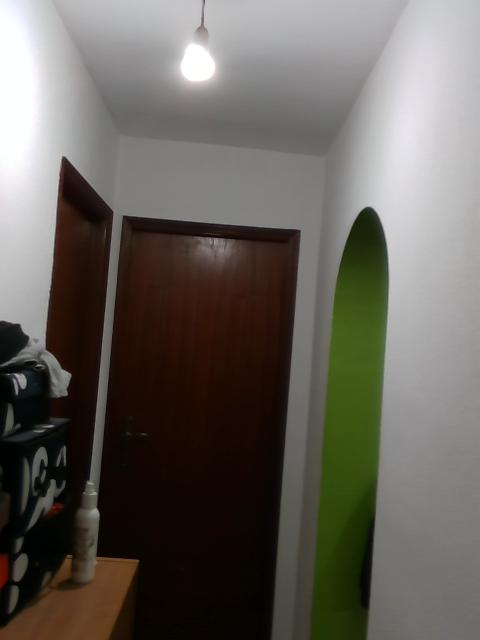door: (107, 231, 287, 640)
